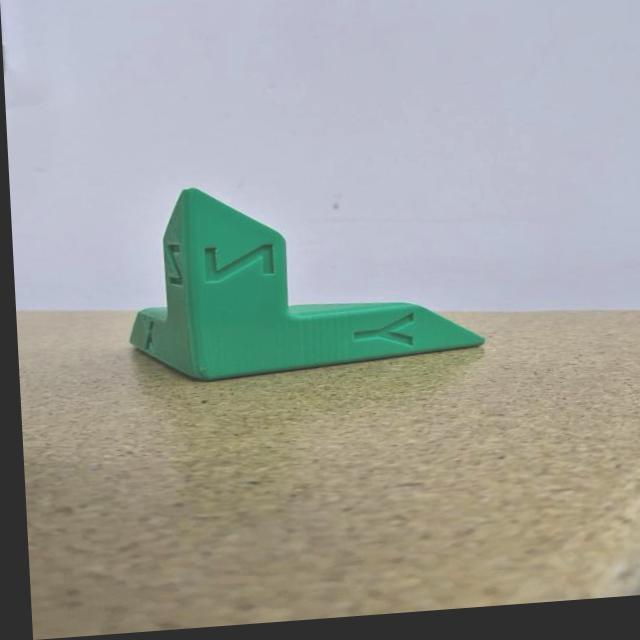eje: (115, 160, 494, 395)
